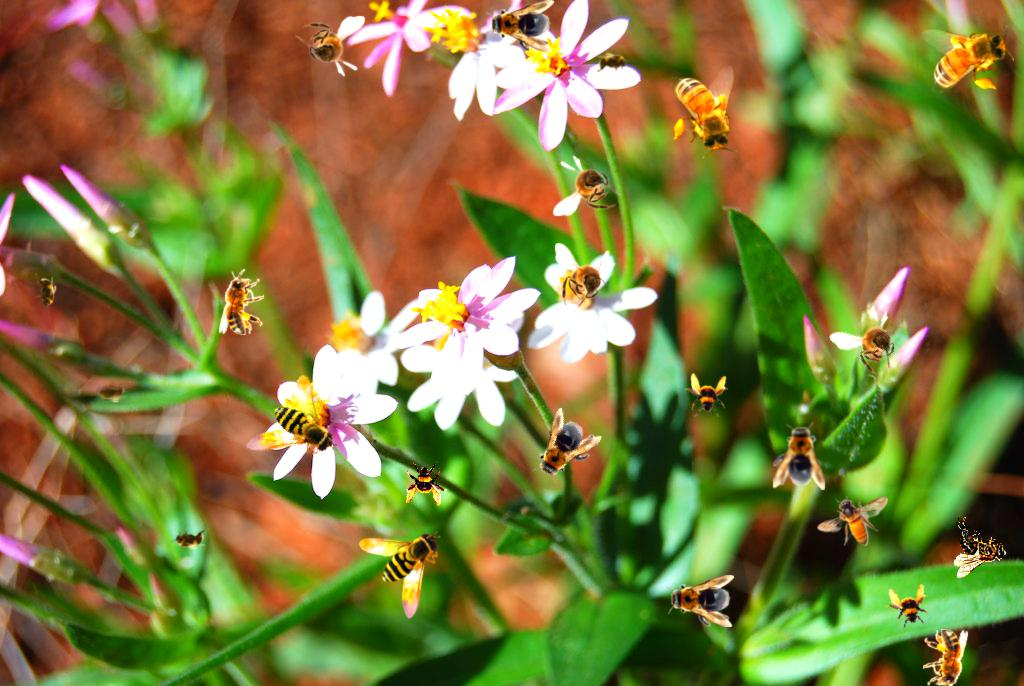Bee: (230, 371, 340, 477), (828, 295, 921, 389), (359, 531, 441, 619), (522, 407, 604, 493), (670, 65, 738, 158), (921, 25, 1014, 93), (295, 16, 365, 77), (555, 243, 616, 313), (553, 155, 623, 216), (817, 496, 888, 546), (773, 422, 825, 490), (666, 575, 734, 627), (486, 0, 554, 52), (954, 516, 1007, 578), (219, 269, 264, 335), (881, 580, 935, 634), (923, 629, 968, 686), (684, 373, 728, 417), (404, 462, 448, 506), (91, 381, 131, 403), (169, 528, 209, 550), (593, 52, 633, 74), (35, 273, 57, 313)
